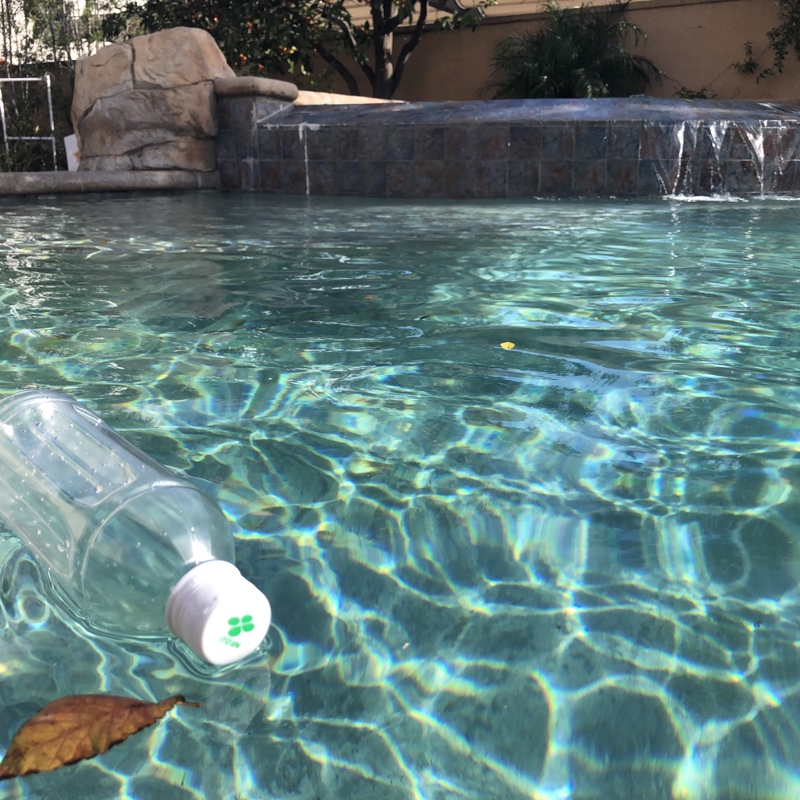Plastic Bottle: (1, 383, 275, 675)
